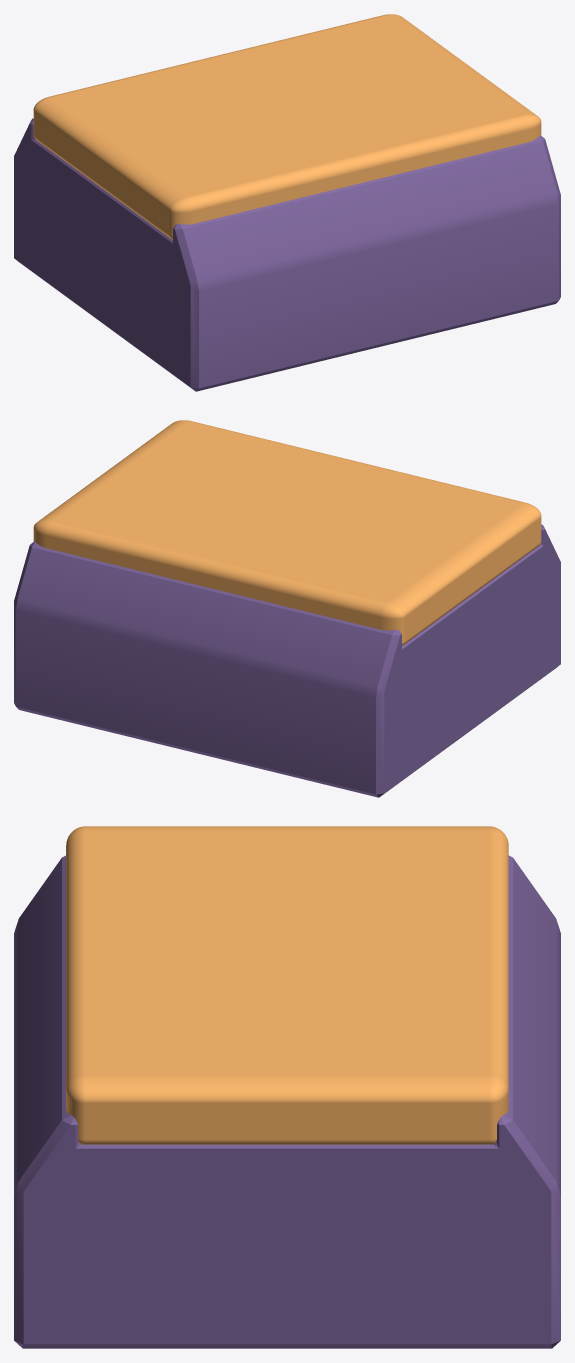
The picture shows the model from 3 angles, top to bottom: view 1: azimuth 30°, elevation 25°; view 2: azimuth 150°, elevation 25°; view 3: azimuth 270°, elevation 25°; orthographic projection. The views are drawn at different scales.
Visible parts, largest first — view 1: Cube.008, Plane.011; view 2: Cube.008, Plane.011; view 3: Plane.011, Cube.008.
Part boxes in pixels (x1=…): Cube.008: x1=14, y1=118, x2=560, y2=391; Plane.011: x1=33, y1=14, x2=541, y2=239; Cube.008: x1=14, y1=524, x2=560, y2=797; Plane.011: x1=33, y1=420, x2=541, y2=645; Plane.011: x1=66, y1=826, x2=508, y2=1144; Cube.008: x1=14, y1=855, x2=560, y2=1348.
Bounding box in the file's own units: 155 × 70.78 × 133.
